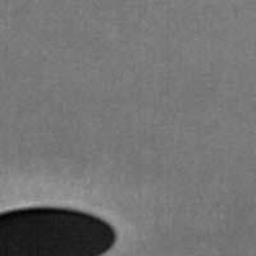Punching: (0, 205, 118, 256)
